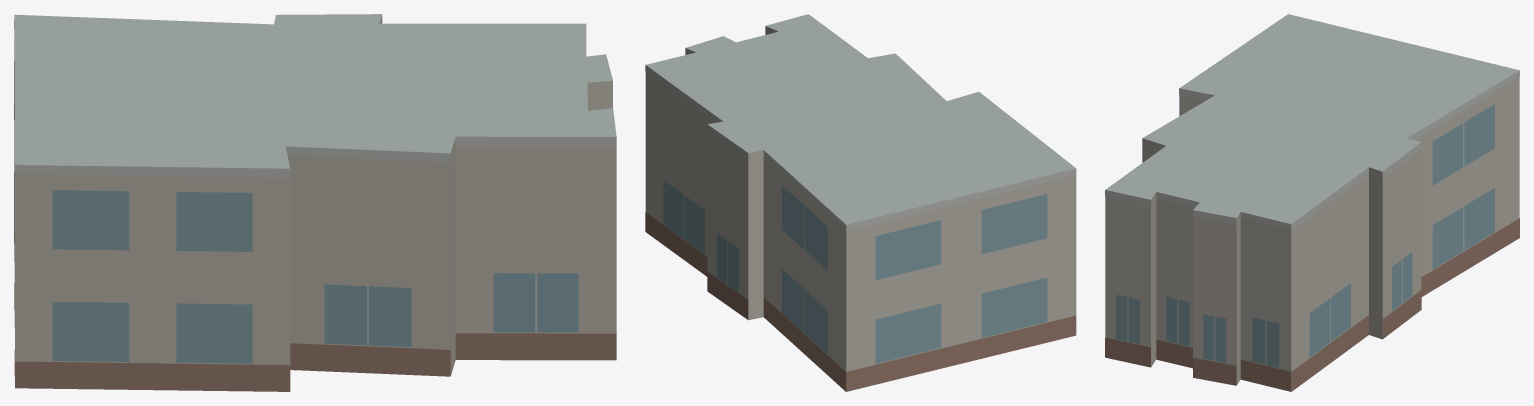
The model's file is survey-upis-32909955.glb.
3 renders of one model, left to right at view 1: azimuth 30°, elevation 25°; view 2: azimuth 150°, elevation 25°; view 3: azimuth 270°, elevation 25°, orthographic. The views are drawn at different scales.
Visible parts, largest first — view 1: survey-upis-32909955.tmp; view 2: survey-upis-32909955.tmp; view 3: survey-upis-32909955.tmp.
Part boxes in pixels (left/top/right/bottom): survey-upis-32909955.tmp: left=14, top=14, right=616, bottom=391; survey-upis-32909955.tmp: left=645, top=14, right=1076, bottom=391; survey-upis-32909955.tmp: left=1105, top=14, right=1519, bottom=391.
Bounding box in the file's own units: 16.41 × 6.1 × 13.68.
